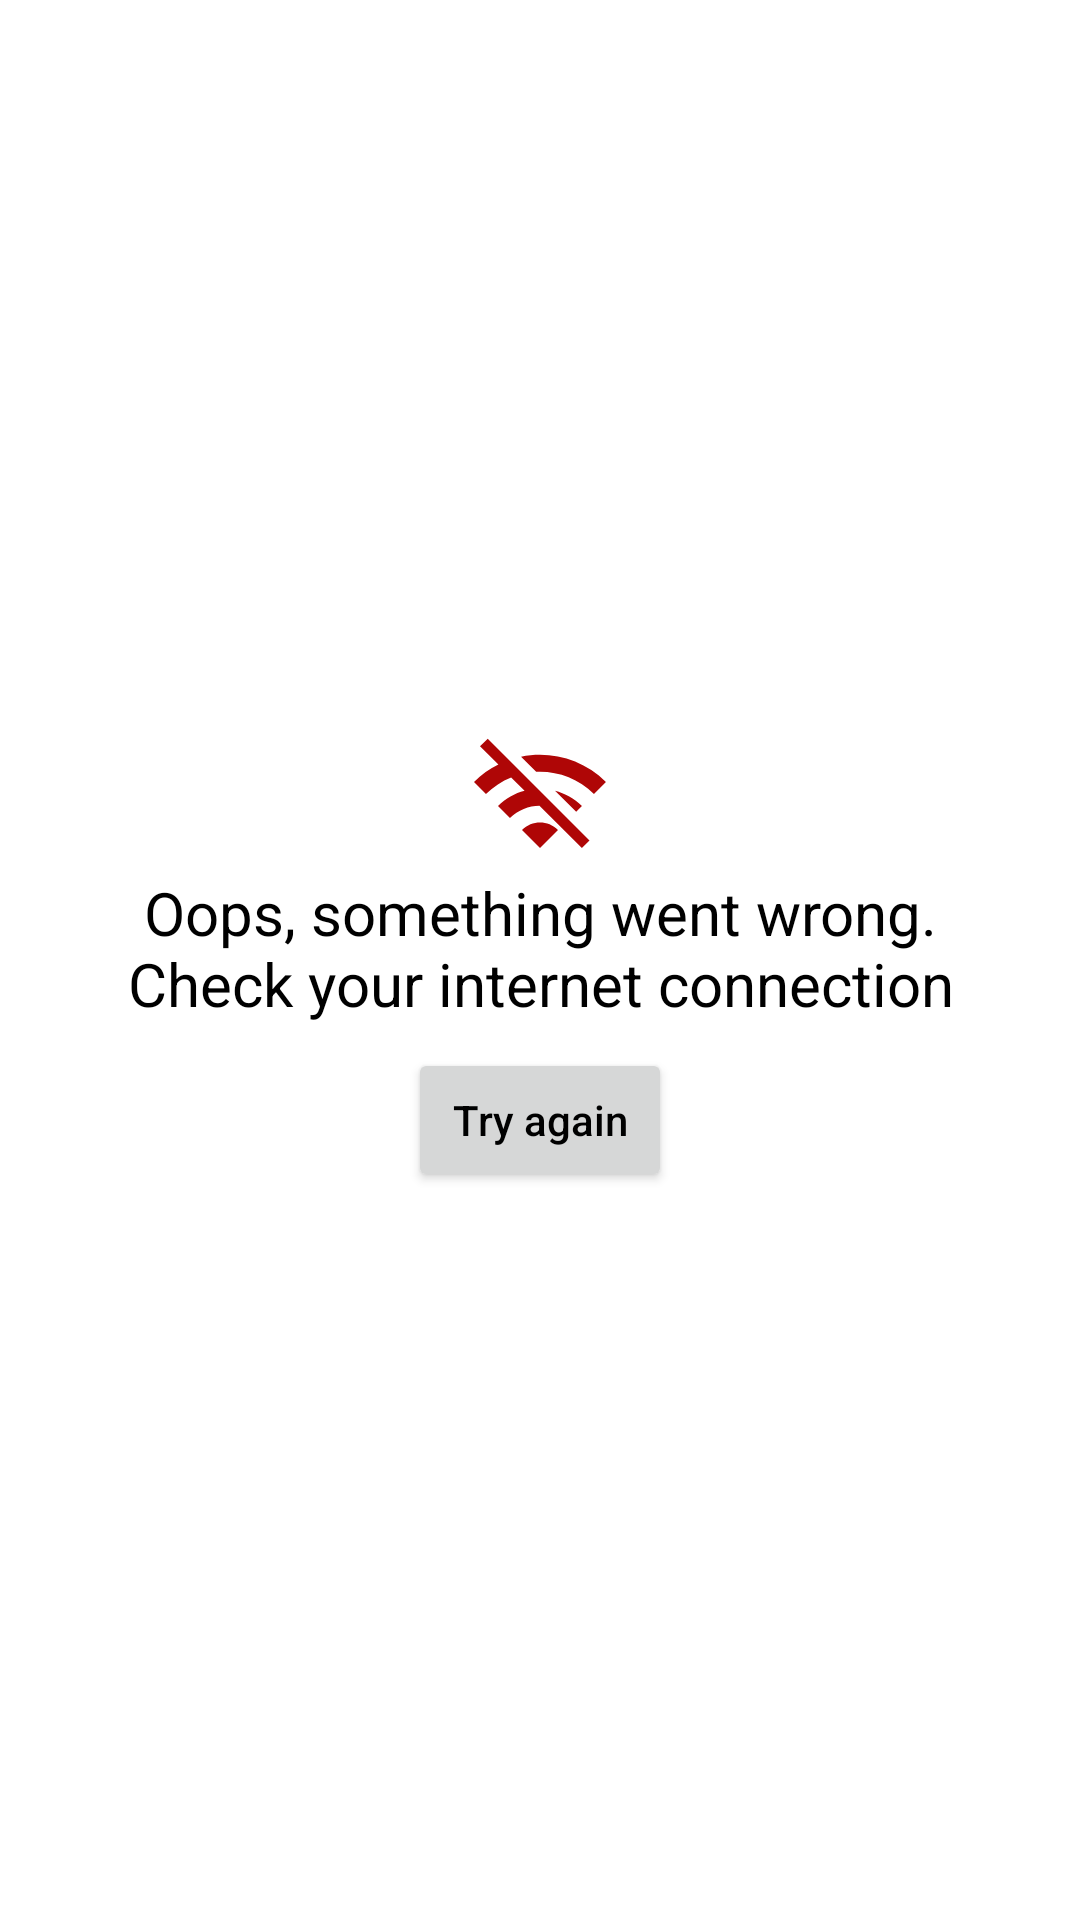

Screen size 1080px x 1920px. Icon name, then its center in pixels as (x=x, y=y):
network error: (x=540, y=793)
